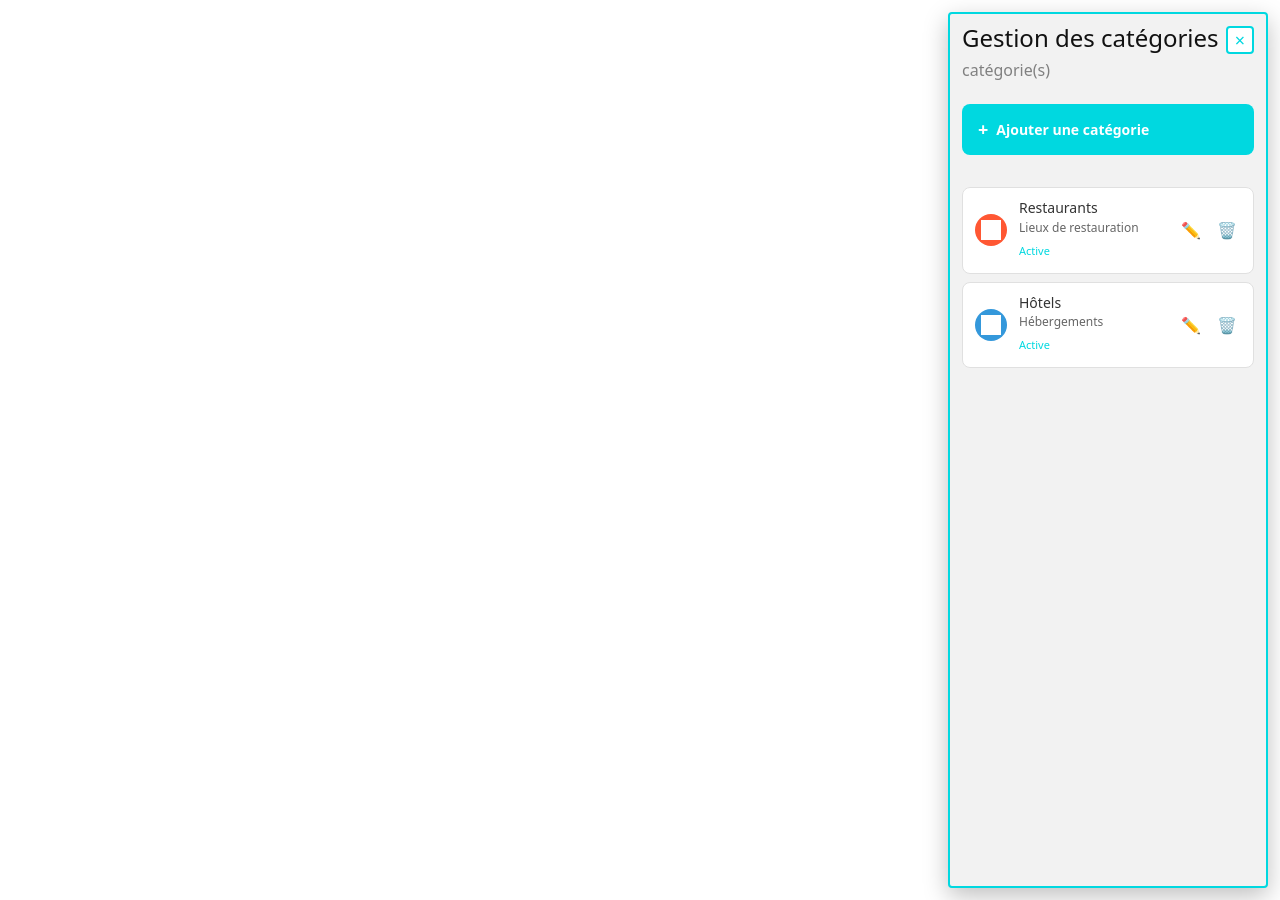
Test: CategorieEditPanel.vue › affiche le formulaire de création au clic sur ajouter
Click the button with class "btn-add-category": click(1108, 129) [962, 104, 1254, 155]
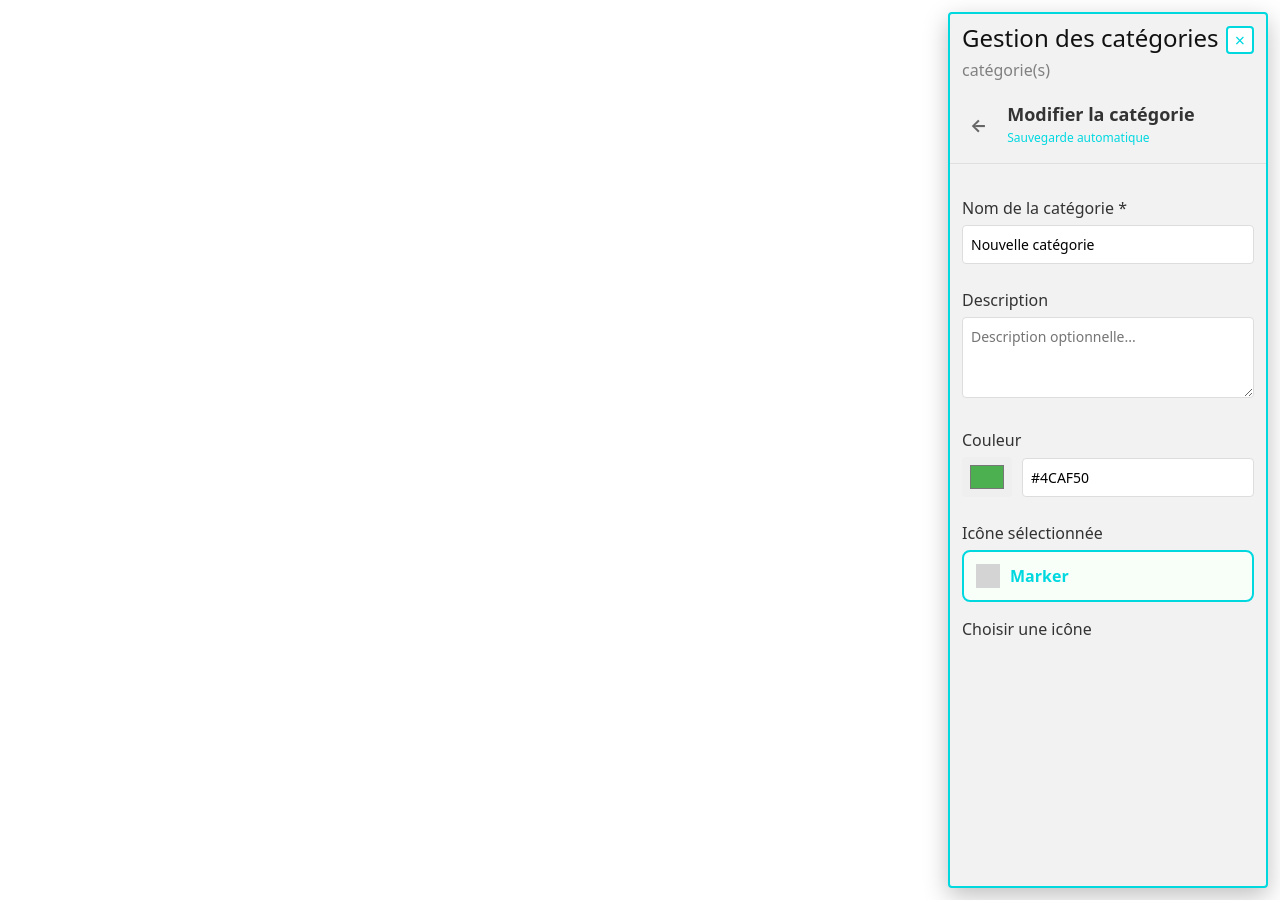
Now the element with class "create-form" is shown, box [950, 184, 1266, 658]
Now the field with id "nom" is shown, box [962, 225, 1254, 264]
Now the text box with id "description" is shown, box [962, 317, 1254, 398]
